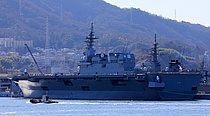MIL_Ship: (14, 22, 200, 100)
